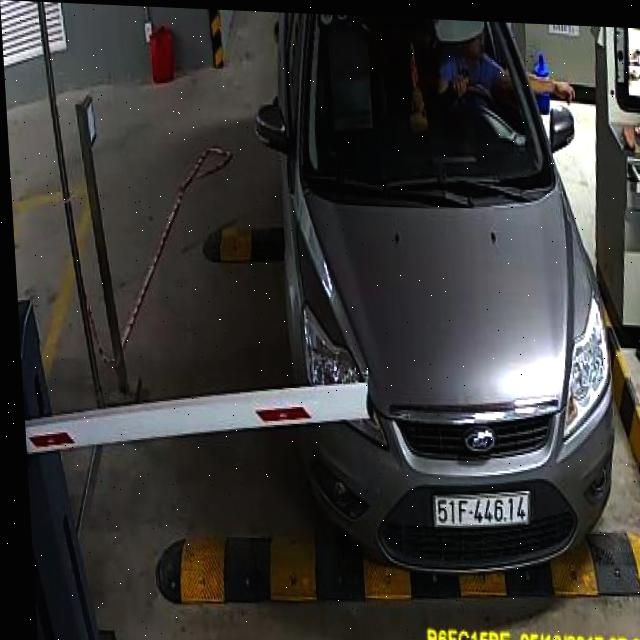car: (245, 12, 637, 589)
plate: (426, 490, 542, 536)
